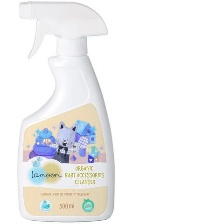cleaning_solution: (14, 0, 116, 224)
